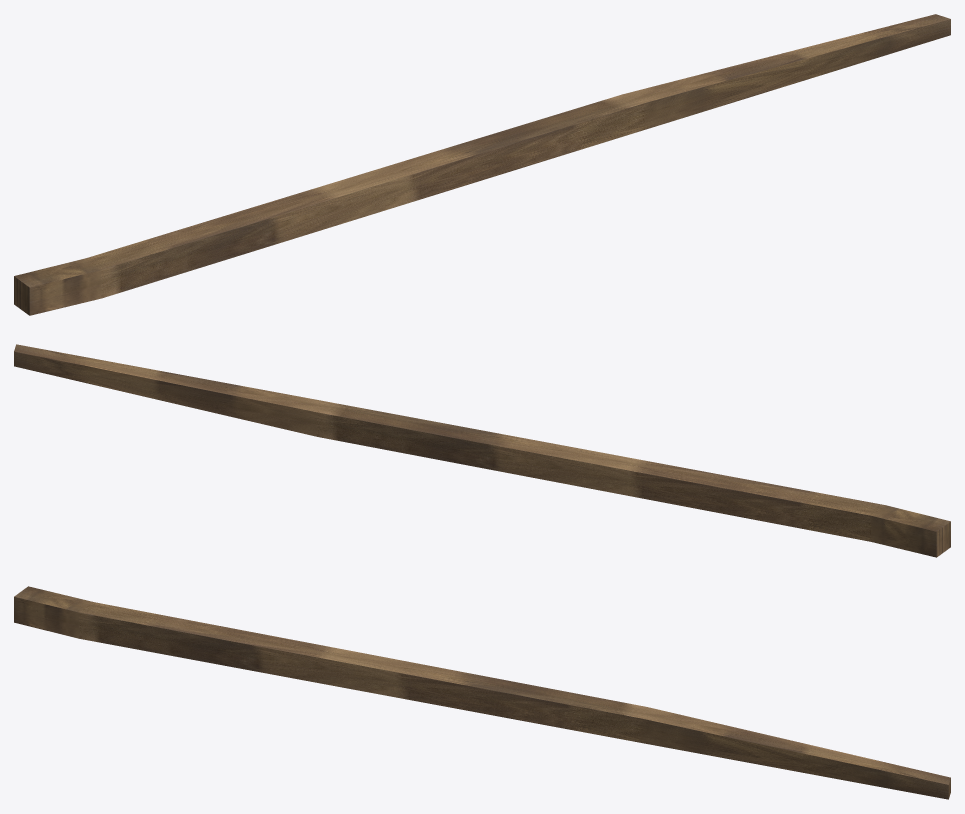
The model's file is cart-02-2-2.FBX.
The picture shows the model from 3 angles, top to bottom: view 1: azimuth 30°, elevation 25°; view 2: azimuth 150°, elevation 25°; view 3: azimuth 330°, elevation 25°; orthographic projection. The views are drawn at different scales.
Parts seen in each view (by area): view 1: Box006; view 2: Box006; view 3: Box006.
Boxes of the visible parts, x1,y1,x2,y2 form: Box006: (14,14,950,315); Box006: (14,344,950,557); Box006: (14,586,950,799).
Size of the model in its own units: 269 by 7.58 by 28.7.
1 material, 1 textured.
